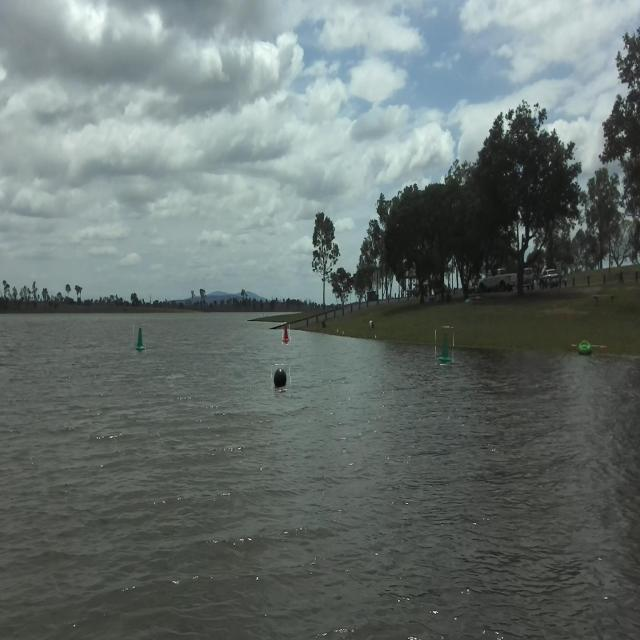Black_Buoy: (269, 357, 294, 398)
Green_Buoy: (436, 326, 455, 370), (130, 324, 149, 352)
Red_Buoy: (281, 318, 293, 351)
